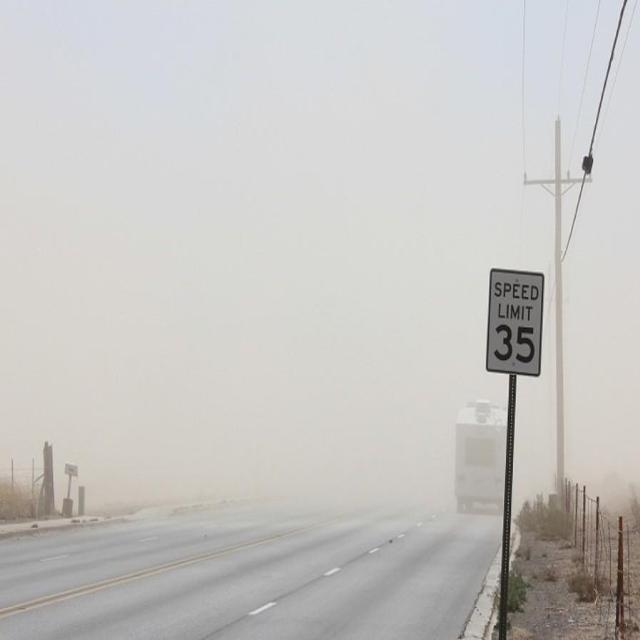Truck: (452, 396, 512, 520)
